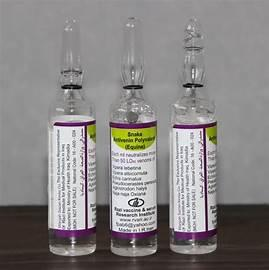Syringe: (102, 8, 162, 259), (43, 12, 101, 257), (167, 23, 225, 258)
